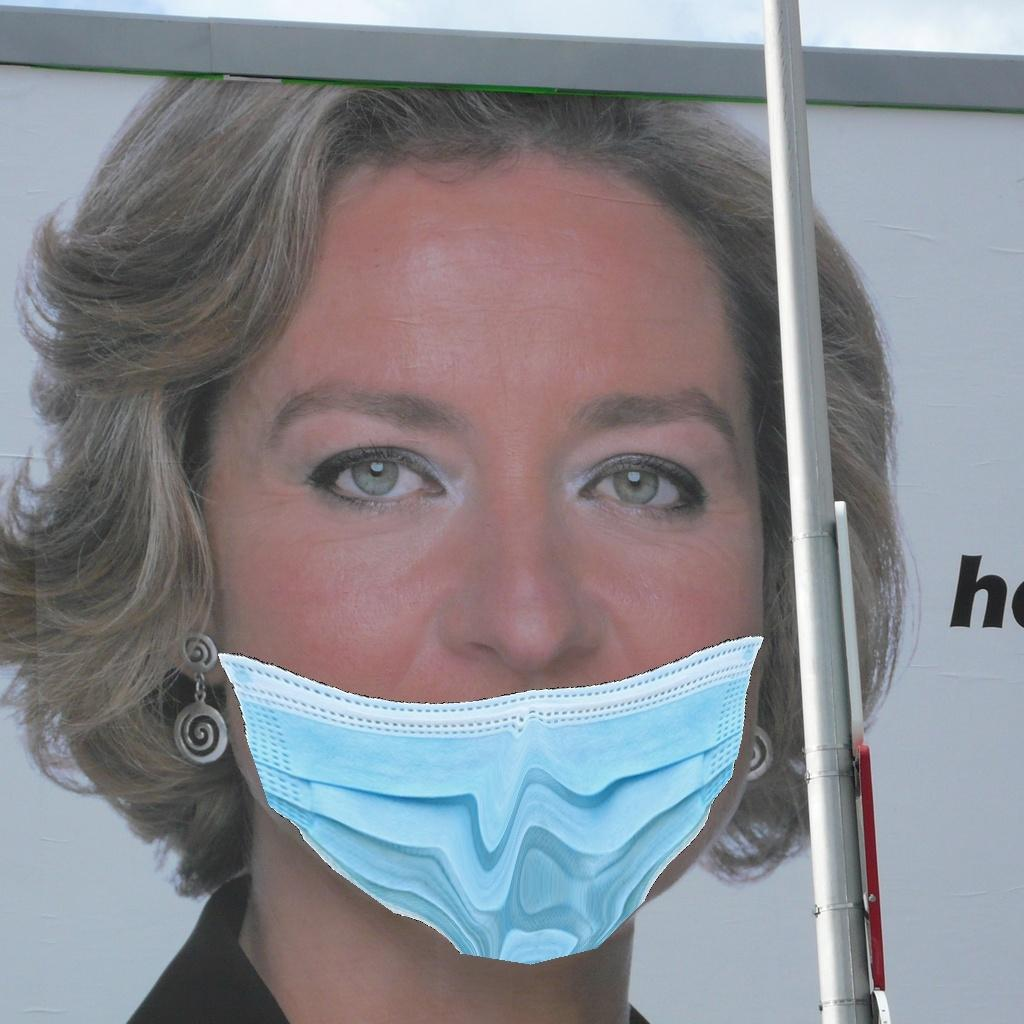Máscara Incorreta: (210, 216, 780, 942)
